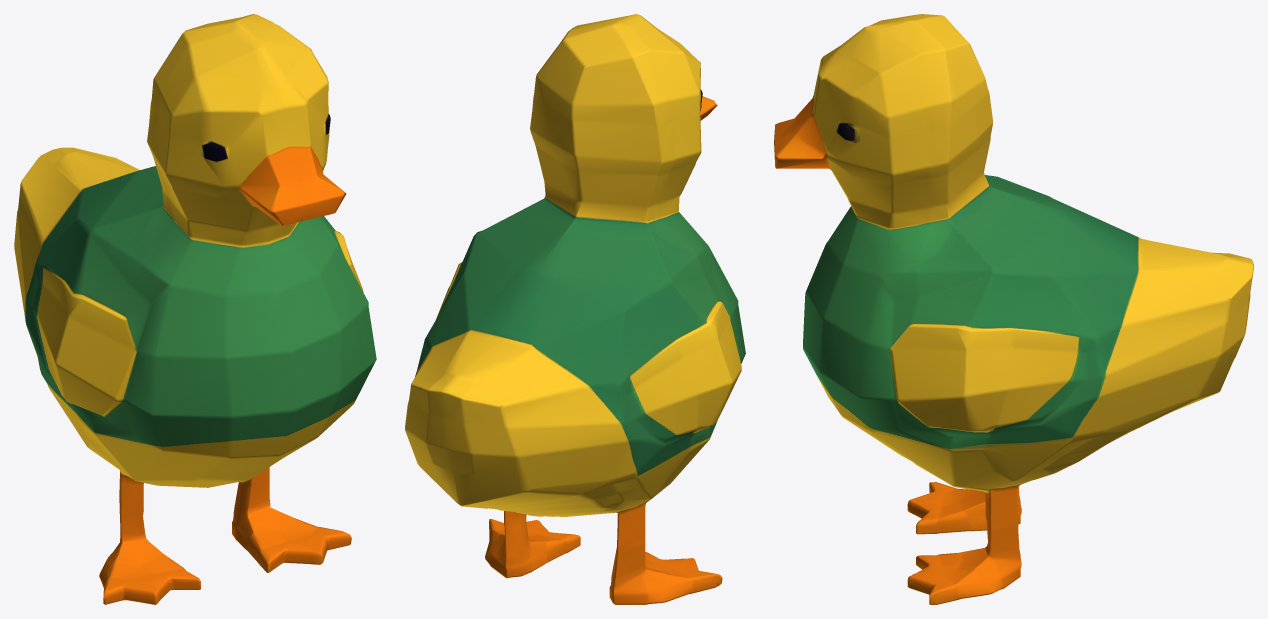
File: duckmodel.glb
3 renders of one model, left to right at view 1: azimuth 30°, elevation 25°; view 2: azimuth 150°, elevation 25°; view 3: azimuth 270°, elevation 25°, orthographic. The views are drawn at different scales.
Size of the model in its own units: 1.14 by 2 by 1.64.
1 material, 1 textured.
